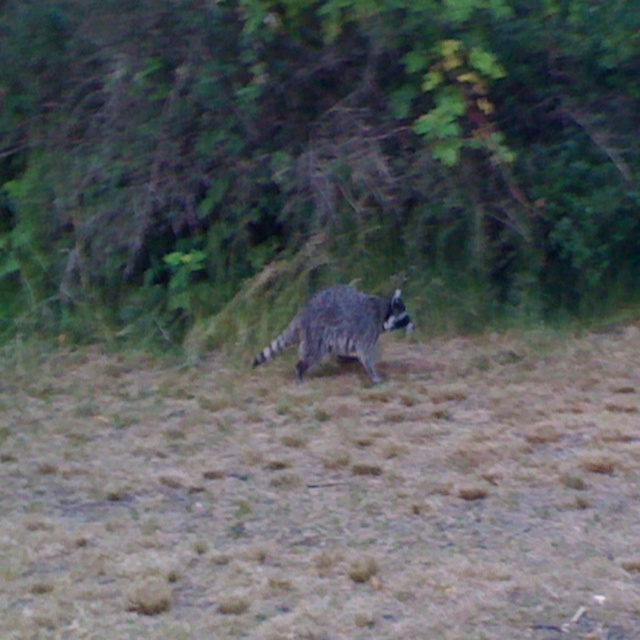Raccoon: (250, 287, 408, 382)
